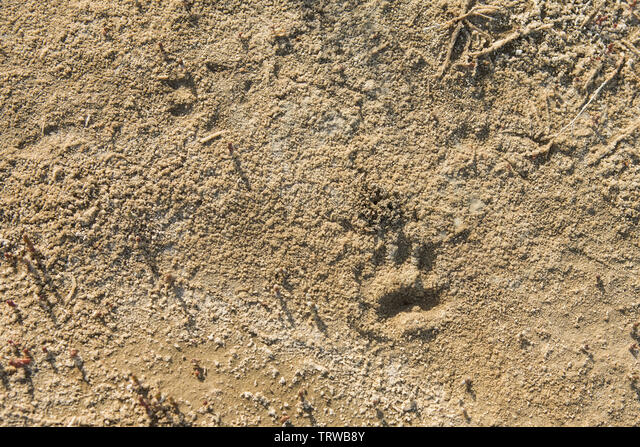bear: (339, 234, 467, 331)
